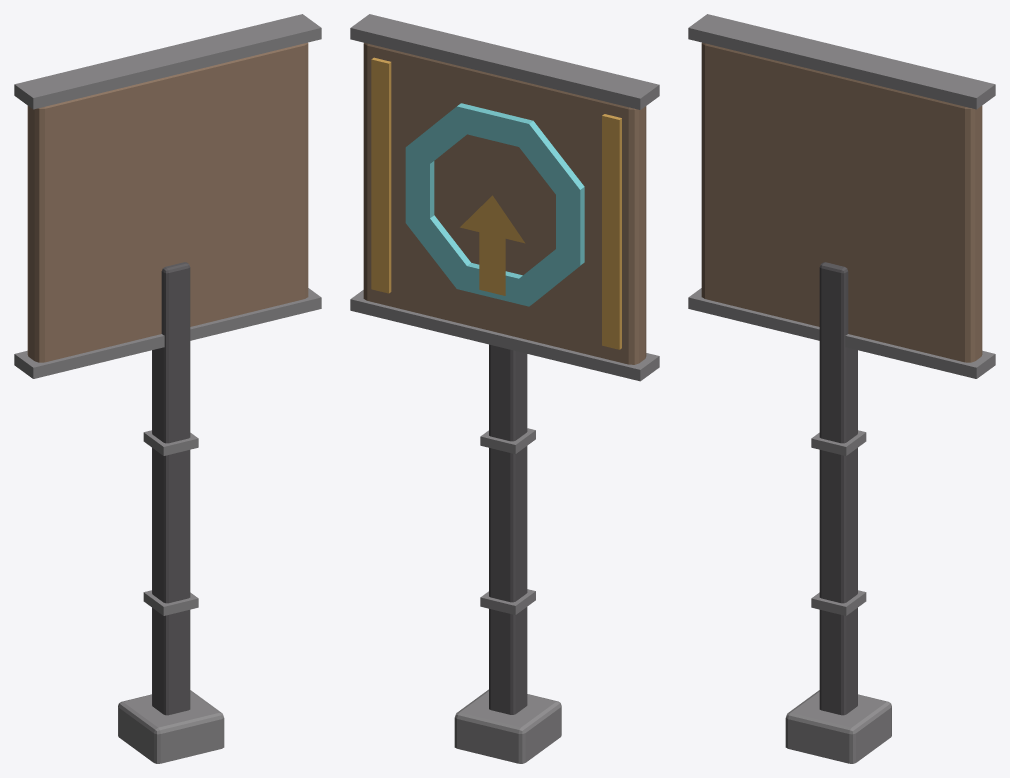
Rendered from rn2-canion-sign.glb.
3 views of the same model, side by side, from view 1: azimuth 30°, elevation 25°; view 2: azimuth 150°, elevation 25°; view 3: azimuth 330°, elevation 25° (orthographic).
Parts seen in each view (by area): view 1: rn2_canion_sign_body; view 2: rn2_canion_sign_body, rn2_canion_sign_glow; view 3: rn2_canion_sign_body.
Boxes of the visible parts, x1,y1,x2,y2 form: rn2_canion_sign_body: (14, 14, 321, 763); rn2_canion_sign_body: (350, 14, 659, 763); rn2_canion_sign_glow: (371, 57, 621, 349); rn2_canion_sign_body: (688, 14, 995, 763).
Size of the model in its own units: 2.64 by 5.98 by 0.64.
